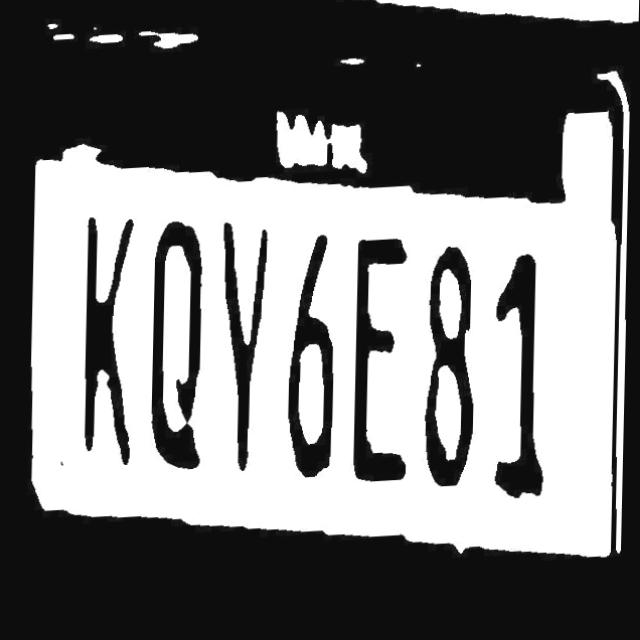1: (487, 243, 567, 508)
6: (288, 238, 343, 491)
8: (424, 239, 481, 505)
e: (349, 223, 417, 508)
k: (72, 199, 144, 480)
q: (141, 211, 211, 493)
y: (212, 210, 283, 484)
